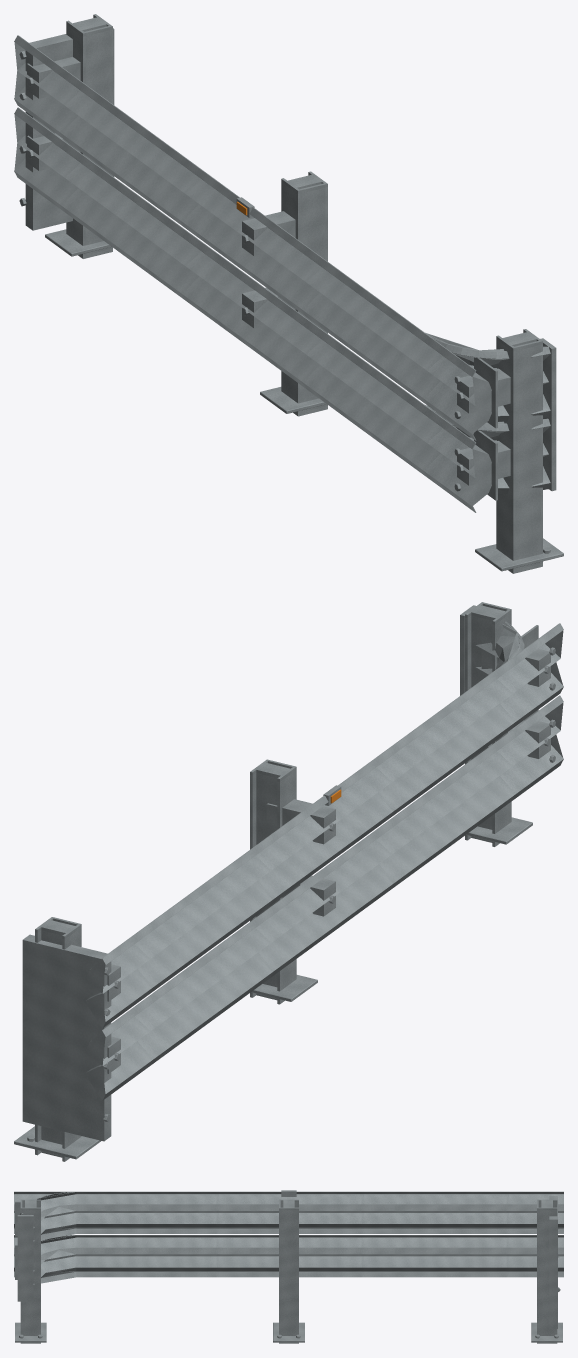
The model's file is aurel-steel-guardrails.glb.
The picture shows the model from 3 angles, top to bottom: view 1: azimuth 30°, elevation 25°; view 2: azimuth 150°, elevation 25°; view 3: azimuth 270°, elevation 25°; orthographic projection. The views are drawn at different scales.
Parts seen in each view (by area): view 1: A02_RUN_LOD2_STEEL, A02_RUN_LOD0_STEEL, A02_TERMINAL_LOD2_STEEL, A02_TERMINAL_LOD0_STEEL, A02_RUN_LOD1_STEEL, A02_TERMINAL_LOD1_STEEL, A02_TRANSITION_LOD0_STEEL, A02_TRANSITION_LOD1_STEEL; view 2: A02_RUN_LOD2_STEEL, A02_TERMINAL_LOD2_STEEL, A02_RUN_LOD0_STEEL, A02_TRANSITION_LOD0_STEEL, A02_TRANSITION_LOD1_STEEL, A02_RUN_LOD1_STEEL, A02_TERMINAL_LOD1_STEEL, A02_TERMINAL_LOD0_STEEL; view 3: A02_RUN_LOD0_STEEL, A02_TERMINAL_LOD0_STEEL, A02_RUN_LOD1_STEEL, A02_TERMINAL_LOD1_STEEL, A02_TERMINAL_LOD2_STEEL, A02_TRANSITION_LOD0_STEEL, A02_TRANSITION_LOD1_STEEL, A02_RUN_LOD2_STEEL.
Boxes of the visible parts, bbox=[...] form: A02_RUN_LOD2_STEEL: bbox=[14, 17, 536, 505]; A02_RUN_LOD0_STEEL: bbox=[14, 14, 563, 573]; A02_TERMINAL_LOD2_STEEL: bbox=[15, 64, 550, 482]; A02_TERMINAL_LOD0_STEEL: bbox=[14, 39, 554, 493]; A02_RUN_LOD1_STEEL: bbox=[14, 35, 510, 512]; A02_TERMINAL_LOD1_STEEL: bbox=[15, 36, 556, 491]; A02_TRANSITION_LOD0_STEEL: bbox=[20, 34, 72, 228]; A02_TRANSITION_LOD1_STEEL: bbox=[19, 28, 114, 230]; A02_RUN_LOD2_STEEL: bbox=[40, 605, 563, 1157]; A02_TERMINAL_LOD2_STEEL: bbox=[98, 624, 518, 1092]; A02_RUN_LOD0_STEEL: bbox=[14, 602, 563, 1161]; A02_TRANSITION_LOD0_STEEL: bbox=[24, 935, 110, 1139]; A02_TRANSITION_LOD1_STEEL: bbox=[22, 934, 111, 1141]; A02_RUN_LOD1_STEEL: bbox=[86, 623, 563, 1100]; A02_TERMINAL_LOD1_STEEL: bbox=[96, 605, 519, 1098]; A02_TERMINAL_LOD0_STEEL: bbox=[86, 606, 524, 1080]; A02_RUN_LOD0_STEEL: bbox=[14, 1190, 563, 1343]; A02_TERMINAL_LOD0_STEEL: bbox=[19, 1191, 563, 1300]; A02_RUN_LOD1_STEEL: bbox=[14, 1190, 563, 1279]; A02_TERMINAL_LOD1_STEEL: bbox=[17, 1192, 563, 1301]; A02_TERMINAL_LOD2_STEEL: bbox=[22, 1192, 76, 1284]; A02_TRANSITION_LOD0_STEEL: bbox=[550, 1196, 560, 1327]; A02_TRANSITION_LOD1_STEEL: bbox=[549, 1196, 560, 1328]; A02_RUN_LOD2_STEEL: bbox=[25, 1199, 552, 1208].
Size of the model in its own units: 0.458 by 1.03 by 3.79.
2 materials, 1 textured.
